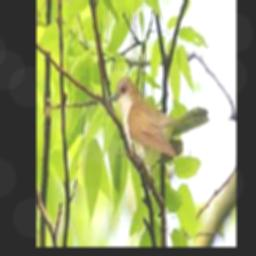Cuckoo: (108, 76, 209, 162)
